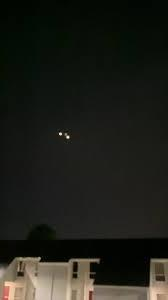Plane: (51, 120, 77, 151)
